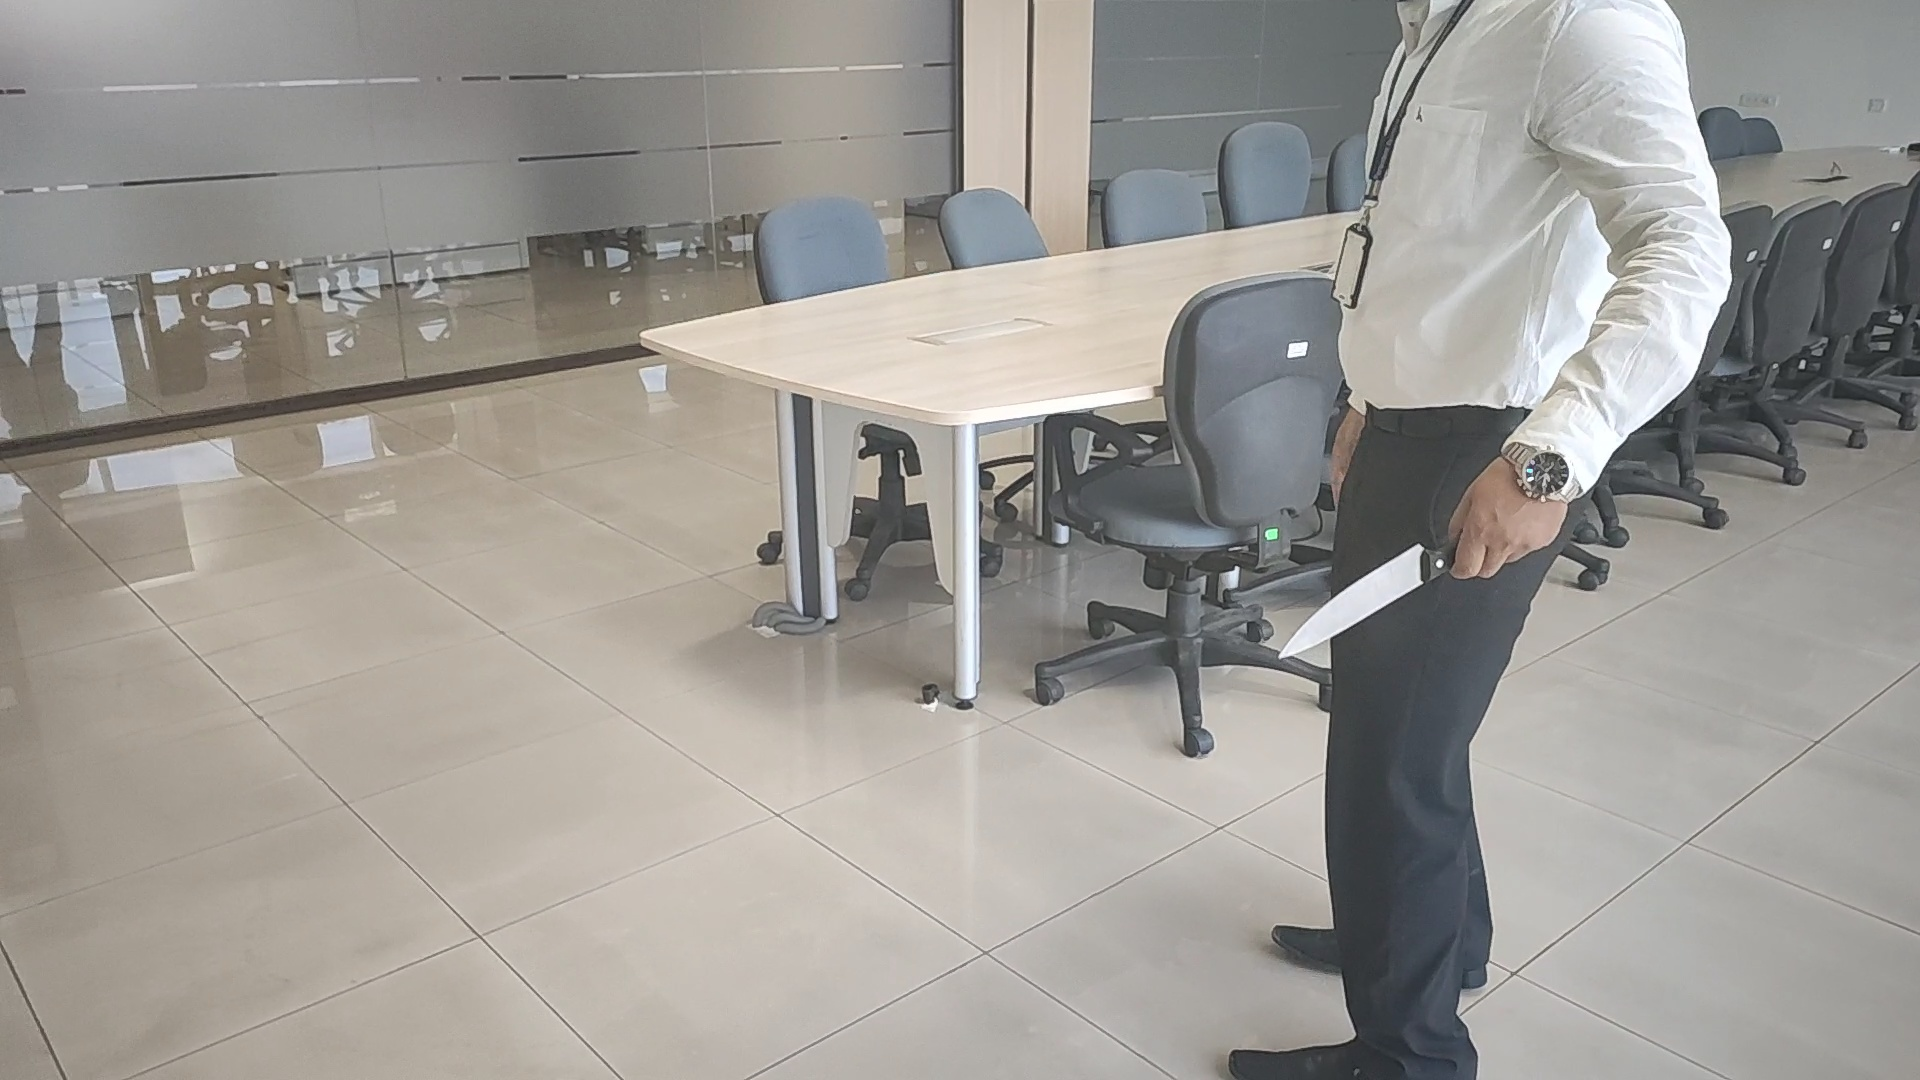knife: (1276, 537, 1455, 662)
